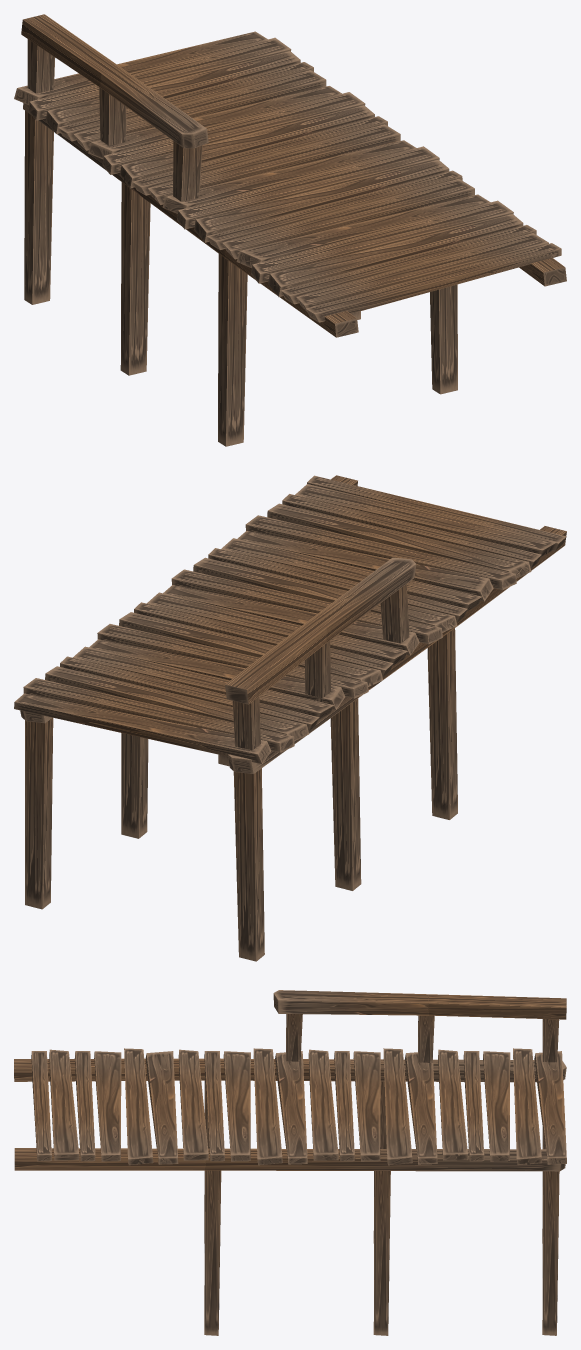
Rendered from pierB_extension.fbx.
The picture shows the model from 3 angles, top to bottom: view 1: azimuth 30°, elevation 25°; view 2: azimuth 150°, elevation 25°; view 3: azimuth 270°, elevation 25°; orthographic projection. The views are drawn at different scales.
Visible parts, largest first — view 1: pierB_extension; view 2: pierB_extension; view 3: pierB_extension.
Part boxes in pixels (x1=…): pierB_extension: x1=14, y1=14, x2=566, y2=446; pierB_extension: x1=14, y1=475, x2=566, y2=961; pierB_extension: x1=14, y1=990, x2=566, y2=1335.
Bounding box in the file's own units: 308 × 324 × 658.
1 material, 1 textured.
